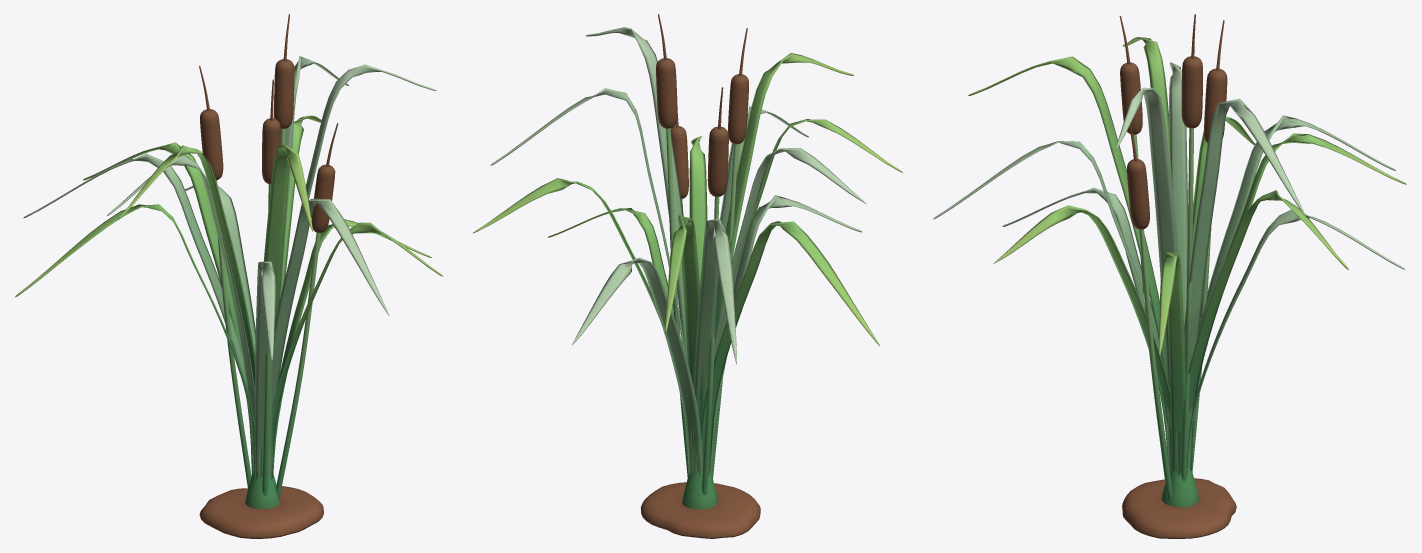
File: cattail_clump.fbx
3 renders of one model, left to right at view 1: azimuth 30°, elevation 25°; view 2: azimuth 150°, elevation 25°; view 3: azimuth 270°, elevation 25°, orthographic. The views are drawn at different scales.
Visible parts, largest first — view 1: cattail_clump; view 2: cattail_clump; view 3: cattail_clump.
Part boxes in pixels (x1,y1,x2,y2): cattail_clump: [14, 14, 443, 538]; cattail_clump: [472, 14, 902, 538]; cattail_clump: [933, 14, 1406, 538].
Size of the model in its own units: 1 by 1.25 by 1.04.
Materials: 1 (1 with a texture image).
